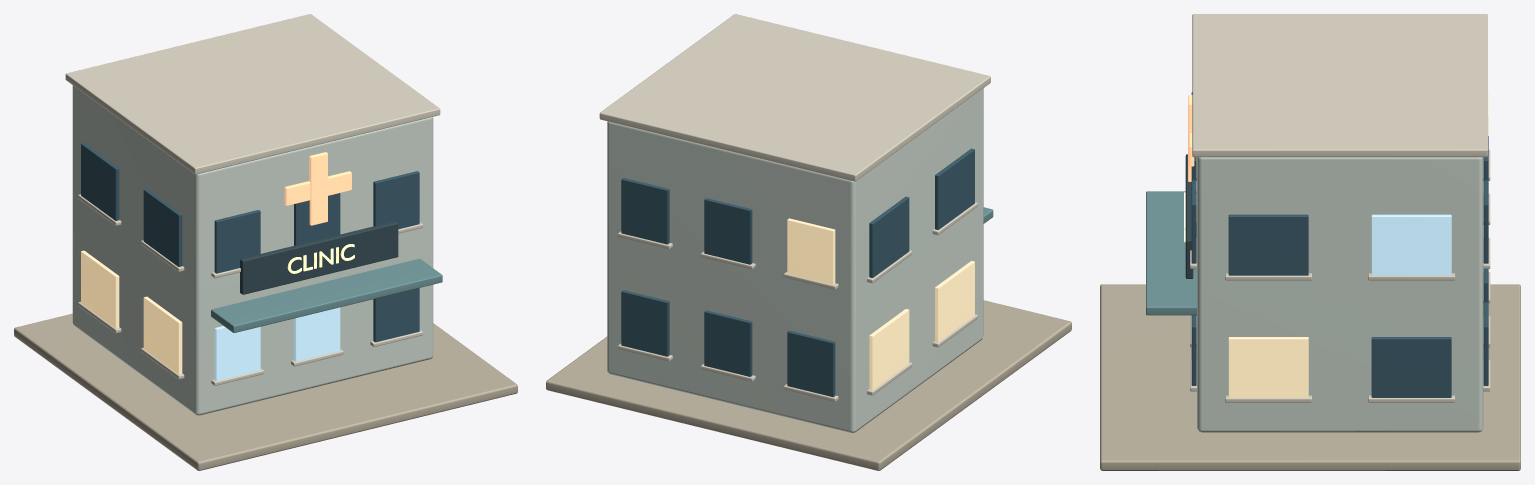
The model's file is clinic.glb.
3 renders of one model, left to right at view 1: azimuth 30°, elevation 25°; view 2: azimuth 150°, elevation 25°; view 3: azimuth 270°, elevation 25°, orthographic. The views are drawn at different scales.
Visible parts, largest first — view 1: clinic_Building_Volume.001, clinic_Roof_Coping.001, clinic_Site_Paving.001, clinic_Clinic_Canopy.001, clinic_Sign_Backplate.001, clinic_Window_Recess.031, clinic_Window_Recess.035, clinic_Window_Recess.021, clinic_Window_Recess.028, clinic_Window_Recess.038, clinic_Window_Recess.026, clinic_Window_Recess.036 (+6 smaller); view 2: clinic_Building_Volume.001, clinic_Roof_Coping.001, clinic_Site_Paving.001, clinic_Window_Recess.024, clinic_Window_Recess.020, clinic_Window_Recess.022, clinic_Window_Recess.032, clinic_Window_Recess.034, clinic_Window_Recess.030, clinic_Window_Recess.036, clinic_Window_Recess.026, clinic_Window_Recess.038 (+1 smaller); view 3: clinic_Building_Volume.001, clinic_Roof_Coping.001, clinic_Site_Paving.001, clinic_Clinic_Canopy.001, clinic_Window_Recess.037, clinic_Window_Recess.039, clinic_Window_Recess.027, clinic_Window_Recess.029, clinic_Sign_Backplate.001, clinic_Window_Sill.039, clinic_Window_Sill.037, clinic_Window_Recess.024 (+4 smaller).
Part boxes in pixels (x1,y1,x2,y2): clinic_Building_Volume.001: [72, 85, 433, 415]; clinic_Roof_Coping.001: [65, 14, 440, 174]; clinic_Site_Paving.001: [14, 313, 517, 470]; clinic_Clinic_Canopy.001: [211, 258, 442, 332]; clinic_Sign_Backplate.001: [240, 221, 398, 294]; clinic_Window_Recess.031: [214, 210, 260, 273]; clinic_Window_Recess.035: [373, 171, 419, 229]; clinic_Window_Recess.021: [214, 326, 260, 381]; clinic_Window_Recess.028: [143, 296, 182, 374]; clinic_Window_Recess.038: [143, 189, 182, 266]; clinic_Window_Recess.026: [81, 250, 119, 328]; clinic_Window_Recess.036: [81, 143, 119, 220]; clinic_Building_Volume.001: [607, 88, 983, 432]; clinic_Roof_Coping.001: [599, 14, 990, 181]; clinic_Site_Paving.001: [546, 300, 1071, 470]; clinic_Window_Recess.024: [621, 290, 669, 356]; clinic_Window_Recess.020: [787, 330, 835, 397]; clinic_Window_Recess.022: [704, 310, 752, 376]; clinic_Window_Recess.032: [704, 198, 752, 264]; clinic_Window_Recess.034: [621, 178, 669, 244]; clinic_Window_Recess.030: [787, 218, 835, 284]; clinic_Window_Recess.036: [869, 196, 909, 277]; clinic_Window_Recess.026: [869, 309, 909, 390]; clinic_Window_Recess.038: [935, 148, 974, 229]; clinic_Building_Volume.001: [1197, 157, 1483, 432]; clinic_Roof_Coping.001: [1192, 14, 1487, 157]; clinic_Site_Paving.001: [1100, 284, 1520, 470]; clinic_Clinic_Canopy.001: [1146, 191, 1196, 315]; clinic_Window_Recess.037: [1371, 214, 1451, 275]; clinic_Window_Recess.039: [1228, 214, 1308, 275]; clinic_Window_Recess.027: [1371, 337, 1451, 397]; clinic_Window_Recess.029: [1228, 337, 1308, 397]; clinic_Sign_Backplate.001: [1185, 154, 1193, 278]; clinic_Window_Sill.039: [1225, 273, 1312, 280]; clinic_Window_Sill.037: [1368, 273, 1455, 280]; clinic_Window_Recess.024: [1483, 302, 1488, 385].
Bounding box in the file's own units: 7.8 × 6.16 × 7.8.
